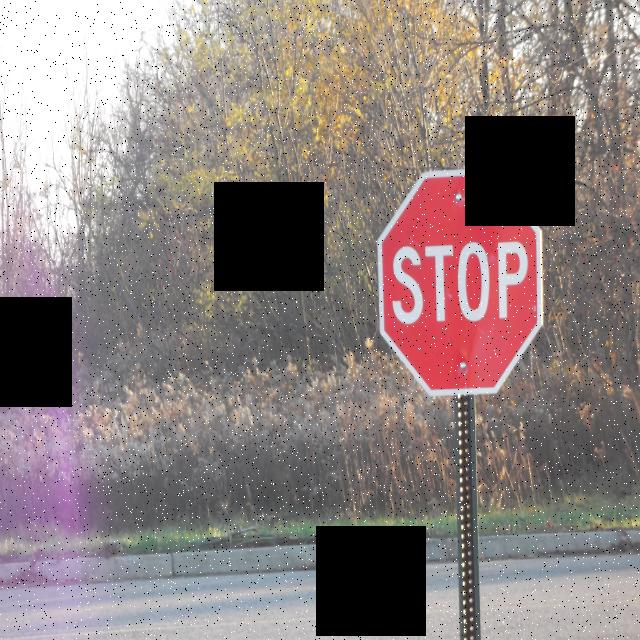stop: (377, 168, 542, 398)
